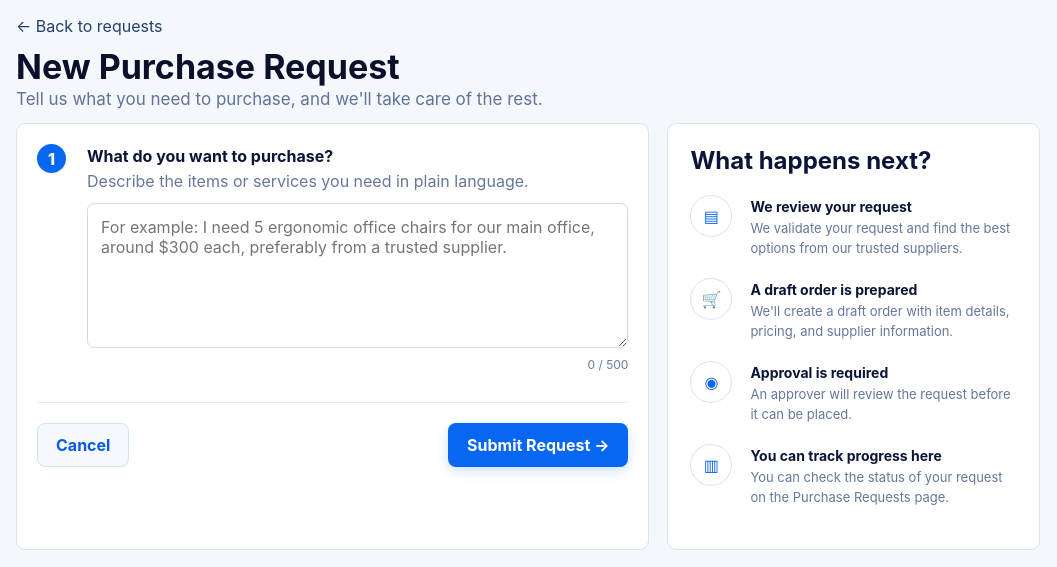
it: NewPurchaseRequest › submits trimmed form data and renders the approved success state
Replace the text in the text box named "What do you want to purchase?" with "  I need two laptop stands  " at (358, 276), box [87,203,628,348]
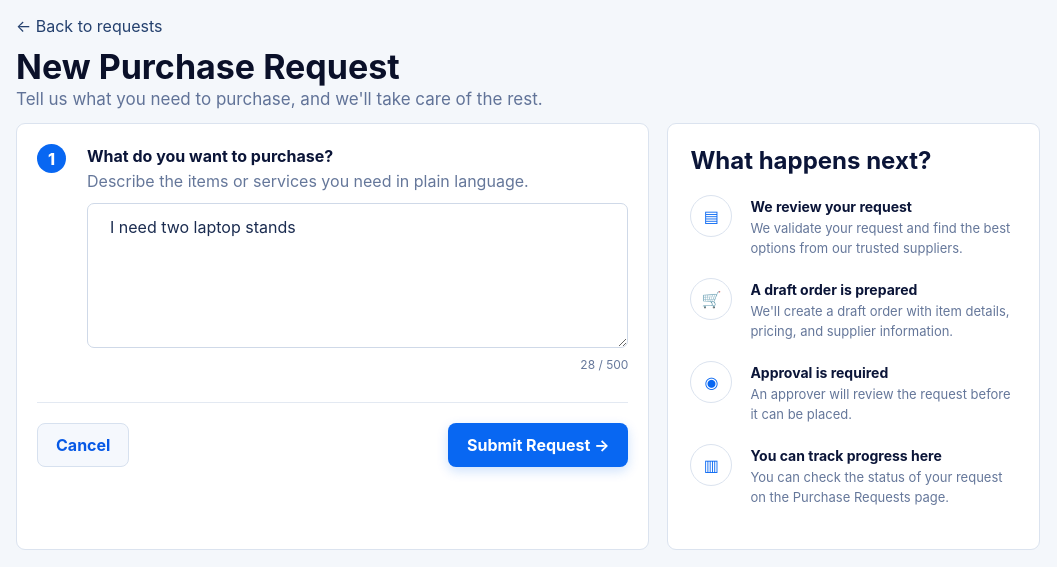
Click the button "Submit Request →" at (538, 445), box [448,423,628,467]
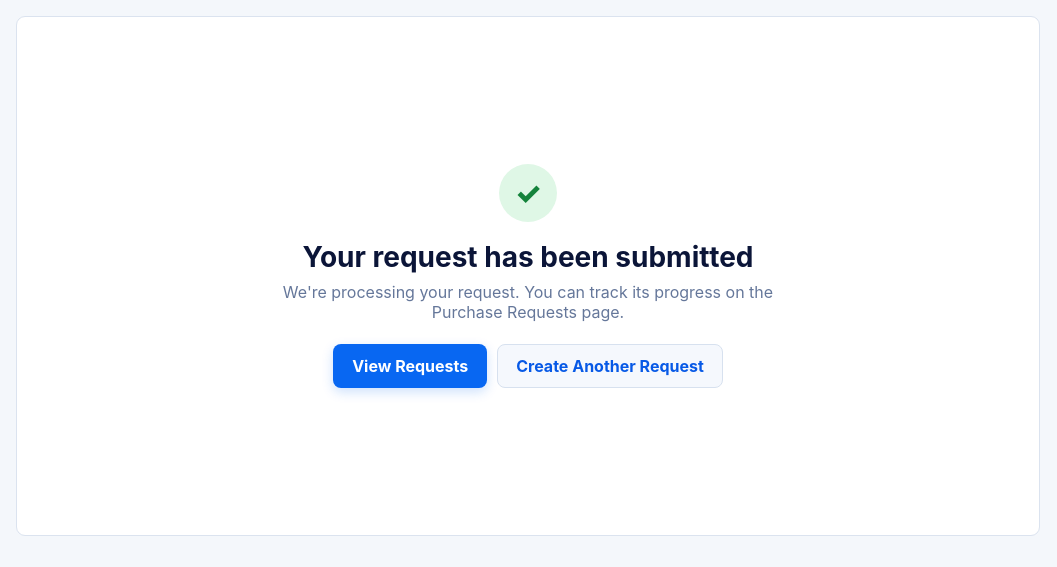
expect the heading "Your request has been submitted" is shown: met, box [302,240,754,274]
